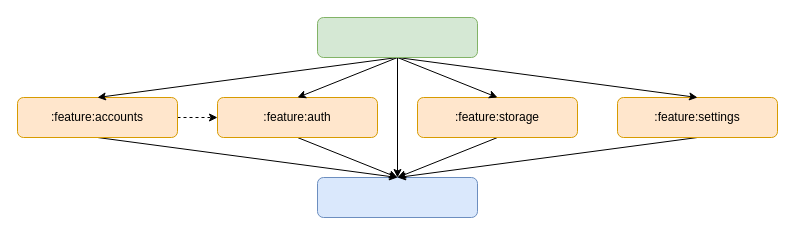
This 795x235 diagram has some shape labels left out. The shapes that lost their labels are listed below. From the top down, each one's box as (x1, y1, x2, y2) in pixels, then its label:
(316, 16, 478, 58): :app
(316, 176, 478, 218): :core
